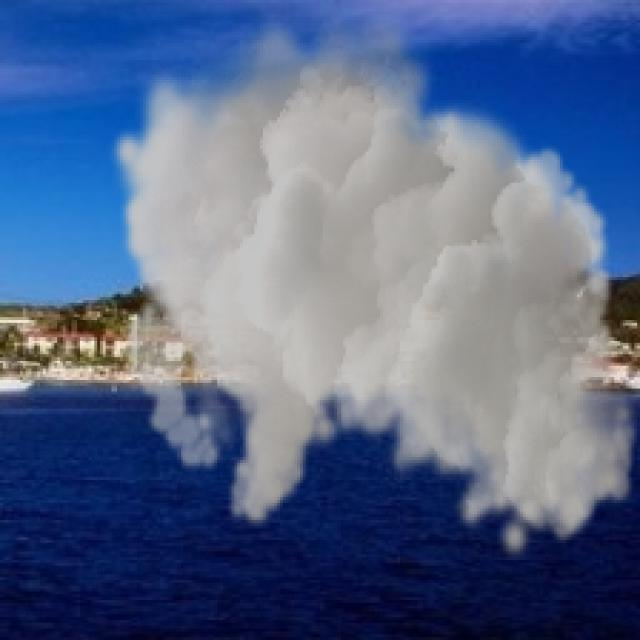smoke: (109, 0, 637, 566)
